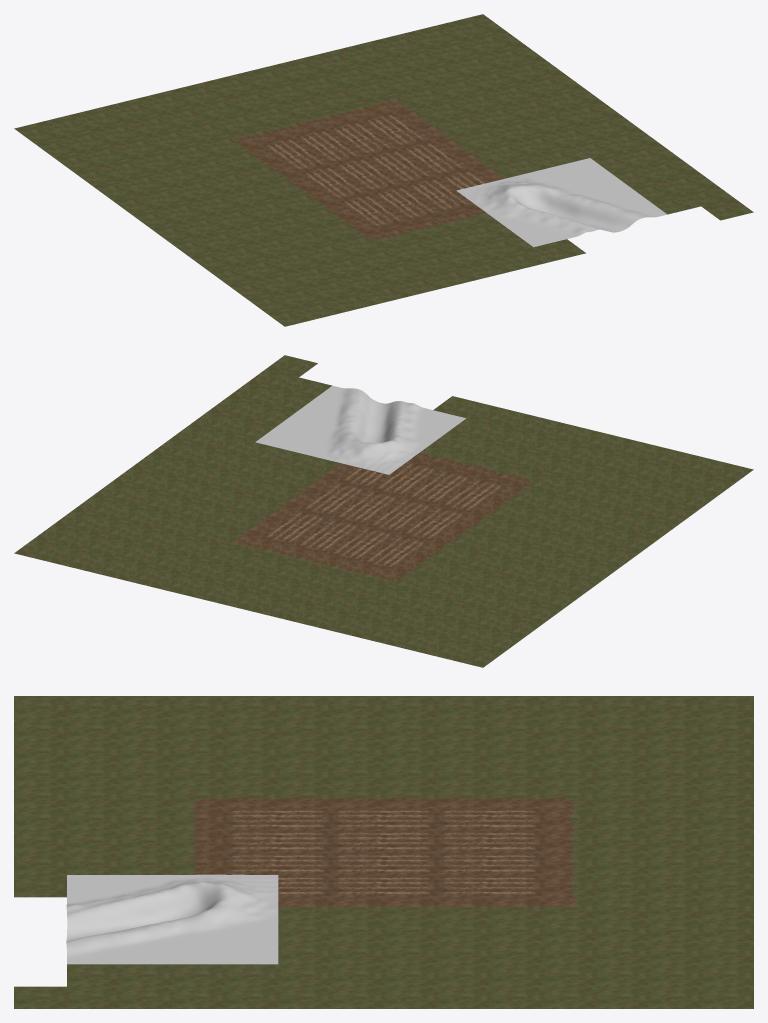
The model's file is Ground.gltf.
3 views of the same model, one above another, from view 1: azimuth 30°, elevation 25°; view 2: azimuth 150°, elevation 25°; view 3: azimuth 270°, elevation 25° (orthographic). The views are drawn at different scales.
Parts seen in each view (by area): view 1: Hill, Row_1_2, Row_3_3, Row_1_1, Row_2_2, Row_2_3, Row_3_4, Row_2_1, Row_2_4, Row_3_2, Row_1_3, Row_1_4 (+154 smaller); view 2: Hill, Row_1_3, Row_3_2, Row_1_4, Row_2_2, Row_2_3, Row_2_1, Row_2_4, Row_1_1, Row_1_2, Row_3_3, Row_3_4 (+154 smaller); view 3: Hill, Row_1_1, Row_1_2, Row_1_3, Row_1_4, Row_2_1, Row_2_2, Row_2_3, Row_2_4, Row_3_2, Row_3_3, Row_3_4 (+154 smaller).
Boxes of the visible parts, box(x1,y1,x2,y2) form: Hill: box(456, 158, 667, 247); Row_1_2: box(326, 120, 397, 156); Row_3_3: box(370, 184, 441, 220); Row_1_1: box(359, 111, 430, 147); Row_2_2: box(365, 148, 436, 184); Row_2_3: box(331, 156, 402, 192); Row_3_4: box(337, 193, 408, 229); Row_2_1: box(398, 140, 469, 176); Row_2_4: box(298, 164, 369, 200); Row_3_2: box(404, 176, 474, 212); Row_1_3: box(293, 128, 363, 164); Row_1_4: box(259, 136, 330, 172); Hill: box(255, 385, 465, 474); Row_1_3: box(326, 525, 397, 561); Row_3_2: box(370, 461, 441, 497); Row_1_4: box(359, 534, 430, 570); Row_2_2: box(331, 489, 402, 525); Row_2_3: box(365, 497, 436, 533); Row_2_1: box(298, 481, 369, 517); Row_2_4: box(398, 505, 469, 541); Row_1_1: box(259, 509, 330, 545); Row_1_2: box(293, 517, 363, 553); Row_3_3: box(404, 469, 474, 505); Row_3_4: box(437, 477, 508, 513); Hill: box(66, 874, 278, 964); Row_1_1: box(437, 875, 542, 897); Row_1_2: box(437, 852, 542, 874); Row_1_3: box(437, 830, 542, 852); Row_1_4: box(437, 807, 542, 829); Row_2_1: box(331, 875, 436, 897); Row_2_2: box(331, 852, 436, 874); Row_2_3: box(331, 830, 436, 852); Row_2_4: box(331, 807, 436, 829); Row_3_2: box(225, 852, 330, 874); Row_3_3: box(225, 830, 330, 852); Row_3_4: box(225, 807, 330, 829).
Size of the model in its own units: 140 by 5.06 by 140.
